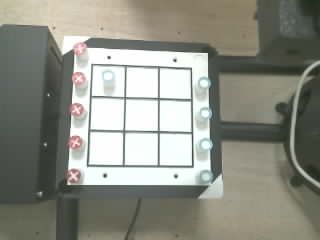blue circle: (199, 138, 213, 152), (200, 170, 213, 183), (198, 77, 210, 88), (200, 107, 211, 119), (102, 70, 114, 81)
board: (67, 46, 214, 185)
cells: (89, 132, 122, 165), (125, 133, 157, 165), (90, 98, 123, 129), (126, 67, 158, 98), (92, 65, 124, 96), (160, 134, 191, 165), (160, 100, 191, 131), (125, 100, 157, 130), (160, 68, 190, 98)
grid: (87, 64, 193, 167)
red cross: (66, 169, 81, 184), (69, 103, 84, 116), (68, 136, 82, 149), (73, 42, 86, 55), (72, 72, 85, 84)
